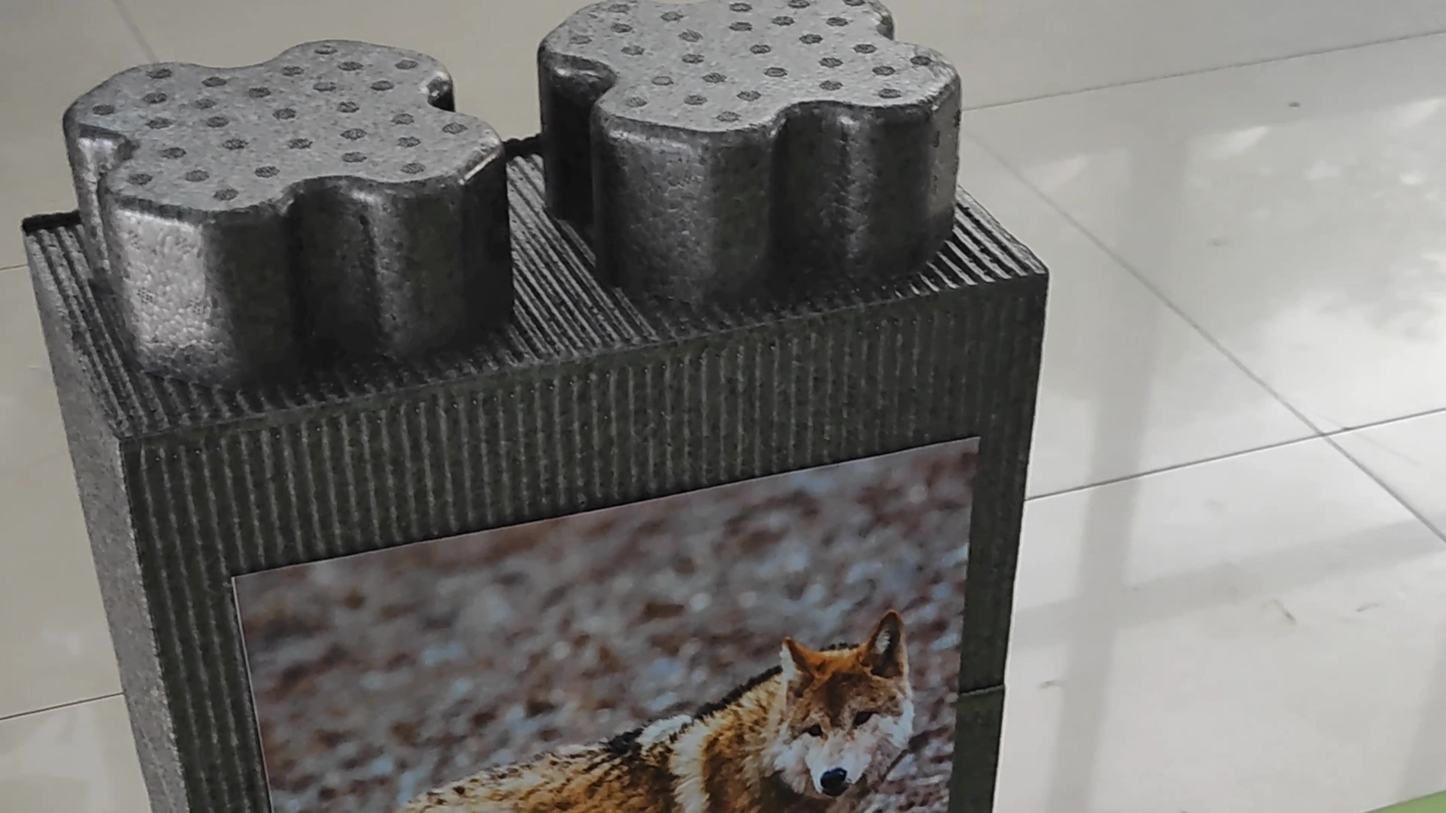wolf: (290, 566, 934, 813)
